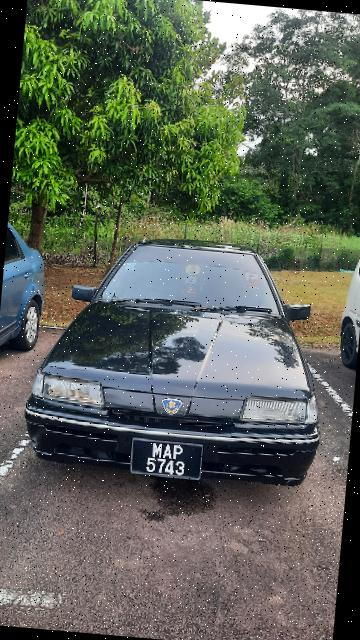License_Plate: (127, 434, 207, 483)
car: (21, 219, 339, 496)
